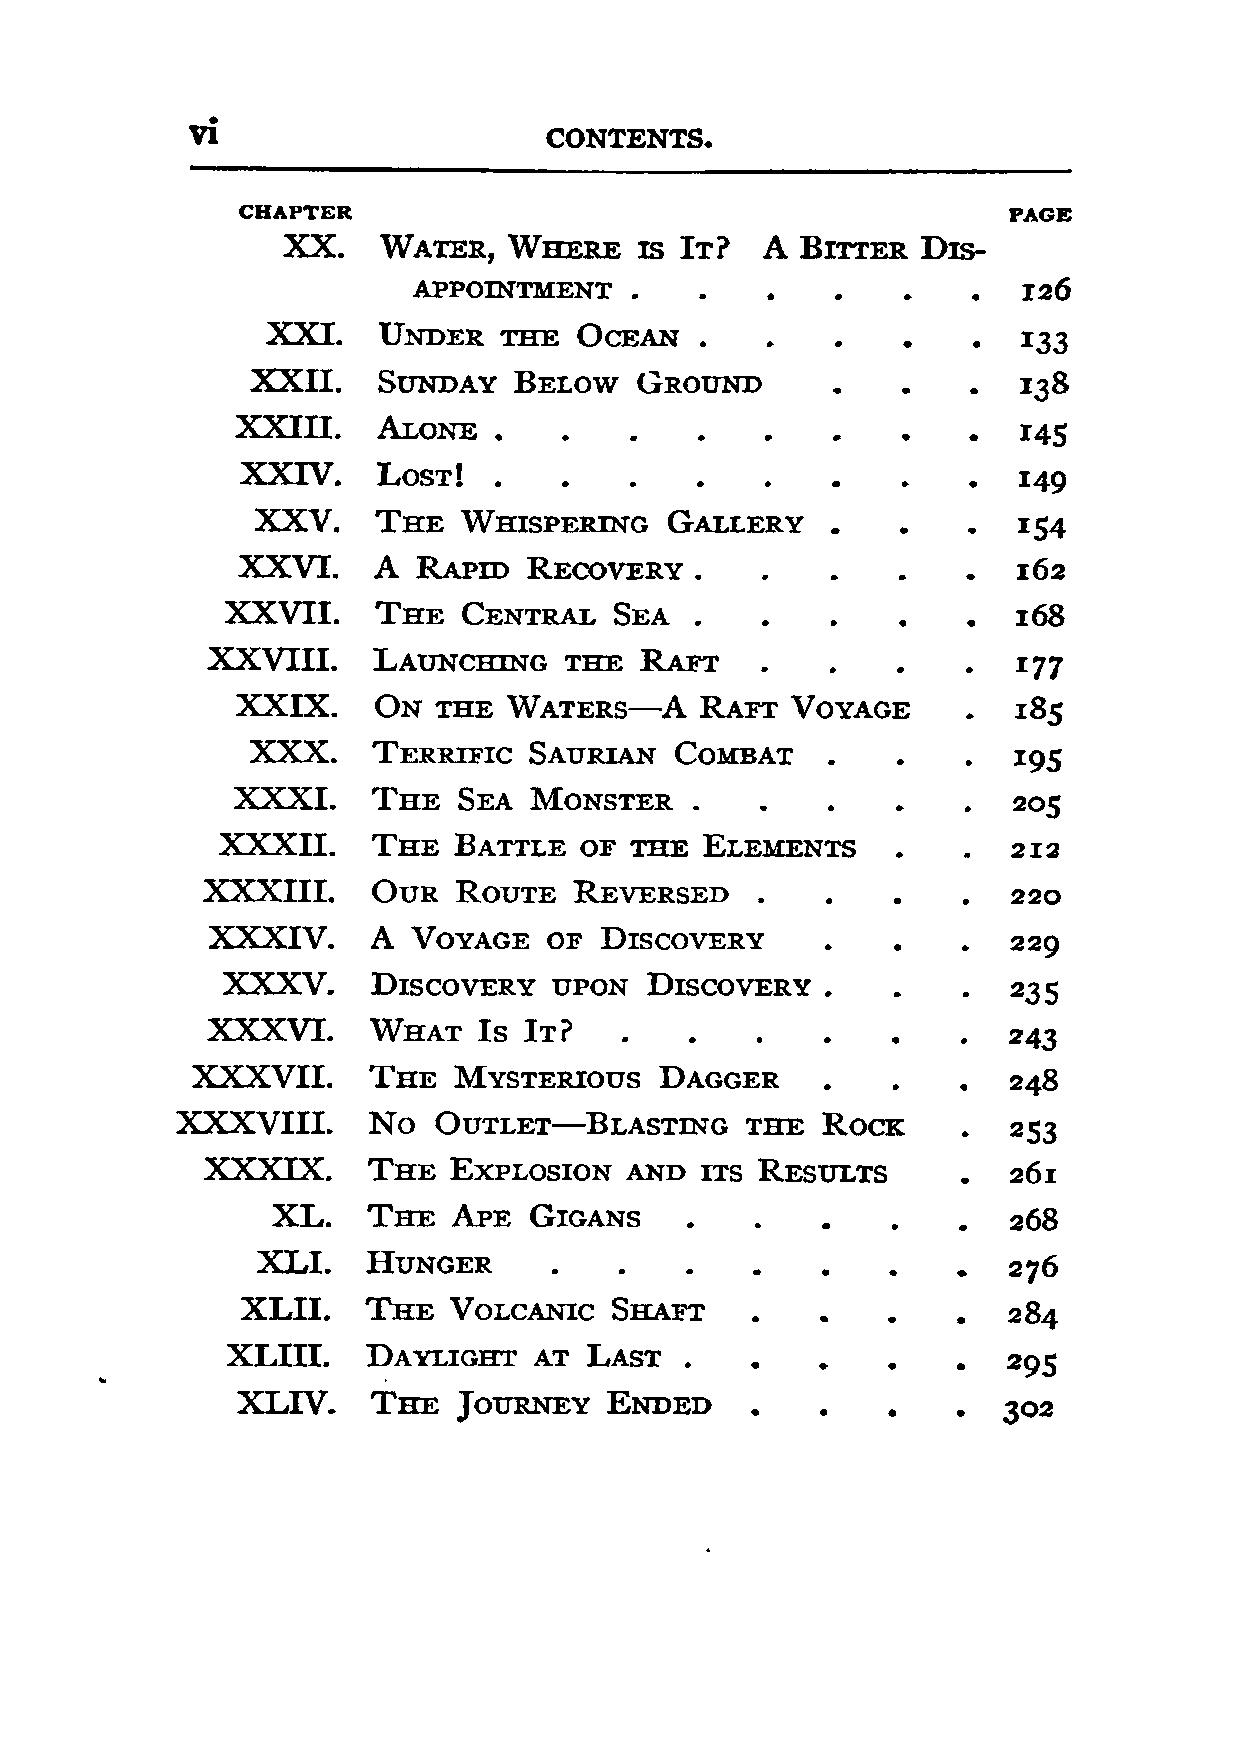TOC_chapter: (272, 221, 986, 309), (199, 1147, 896, 1193), (173, 1102, 913, 1141), (225, 684, 915, 723), (187, 1053, 782, 1096), (235, 730, 807, 774), (207, 965, 812, 1007), (213, 825, 860, 863), (201, 915, 776, 957), (235, 1386, 714, 1435), (247, 505, 809, 542), (235, 365, 776, 404), (216, 1331, 662, 1377), (199, 870, 738, 907), (256, 309, 684, 356), (199, 639, 727, 675), (217, 592, 682, 631), (225, 778, 688, 816), (234, 1288, 707, 1325), (232, 546, 694, 582), (268, 1198, 645, 1239), (204, 1011, 582, 1047), (223, 408, 493, 450), (254, 1245, 501, 1284), (234, 456, 472, 495)
TOC_pagenumber: (1000, 1296, 1066, 1339), (1006, 735, 1068, 780), (1015, 360, 1074, 401), (1011, 413, 1078, 450), (1012, 460, 1078, 497), (1002, 1249, 1066, 1287), (1015, 266, 1075, 305), (1015, 321, 1074, 360), (1005, 690, 1066, 727), (1002, 925, 1063, 961), (1002, 1019, 1063, 1055), (1012, 644, 1067, 683), (1005, 1154, 1060, 1193), (1012, 506, 1067, 544), (1011, 790, 1070, 825), (998, 1394, 1057, 1429), (1005, 972, 1062, 1008), (1012, 597, 1067, 633), (1008, 829, 1063, 866), (1002, 876, 1063, 909), (1006, 1202, 1060, 1239), (1006, 1343, 1060, 1380), (1006, 1113, 1057, 1150), (1005, 1066, 1062, 1098), (1012, 556, 1070, 585)
chapter: (539, 119, 717, 161)
